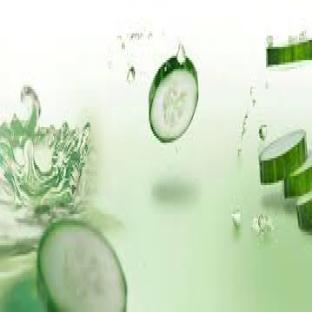Cucumber: (38, 221, 126, 311), (149, 56, 198, 142), (259, 130, 306, 184), (284, 154, 311, 198), (267, 41, 311, 66), (297, 192, 311, 229)
